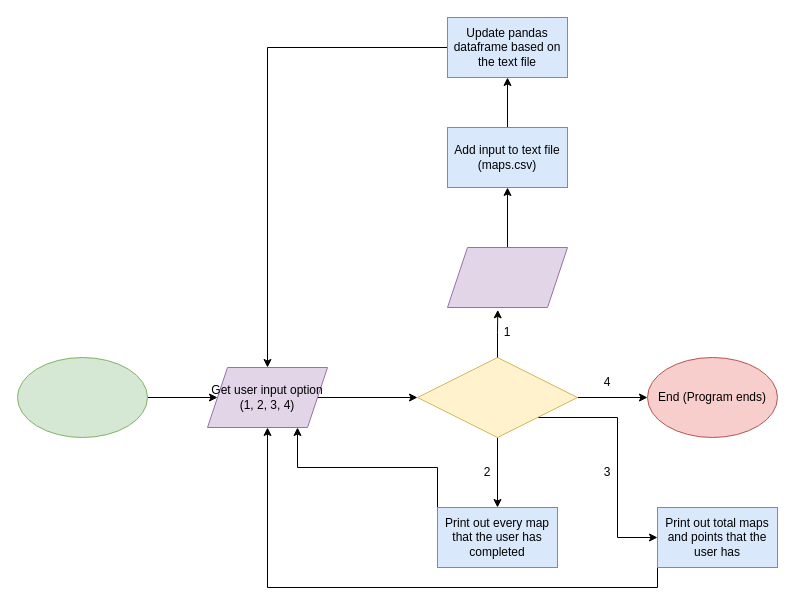
The diagram is 795 pixels wide and 613 high, and some of its shapes have lost their labels. Here are the shapes that lost their labels. From the top down, the box of each, then its label:
(446, 246, 568, 308): Get user input for map details
(16, 356, 148, 438): Start (User runs program)
(416, 356, 578, 438): What is the user's option?
